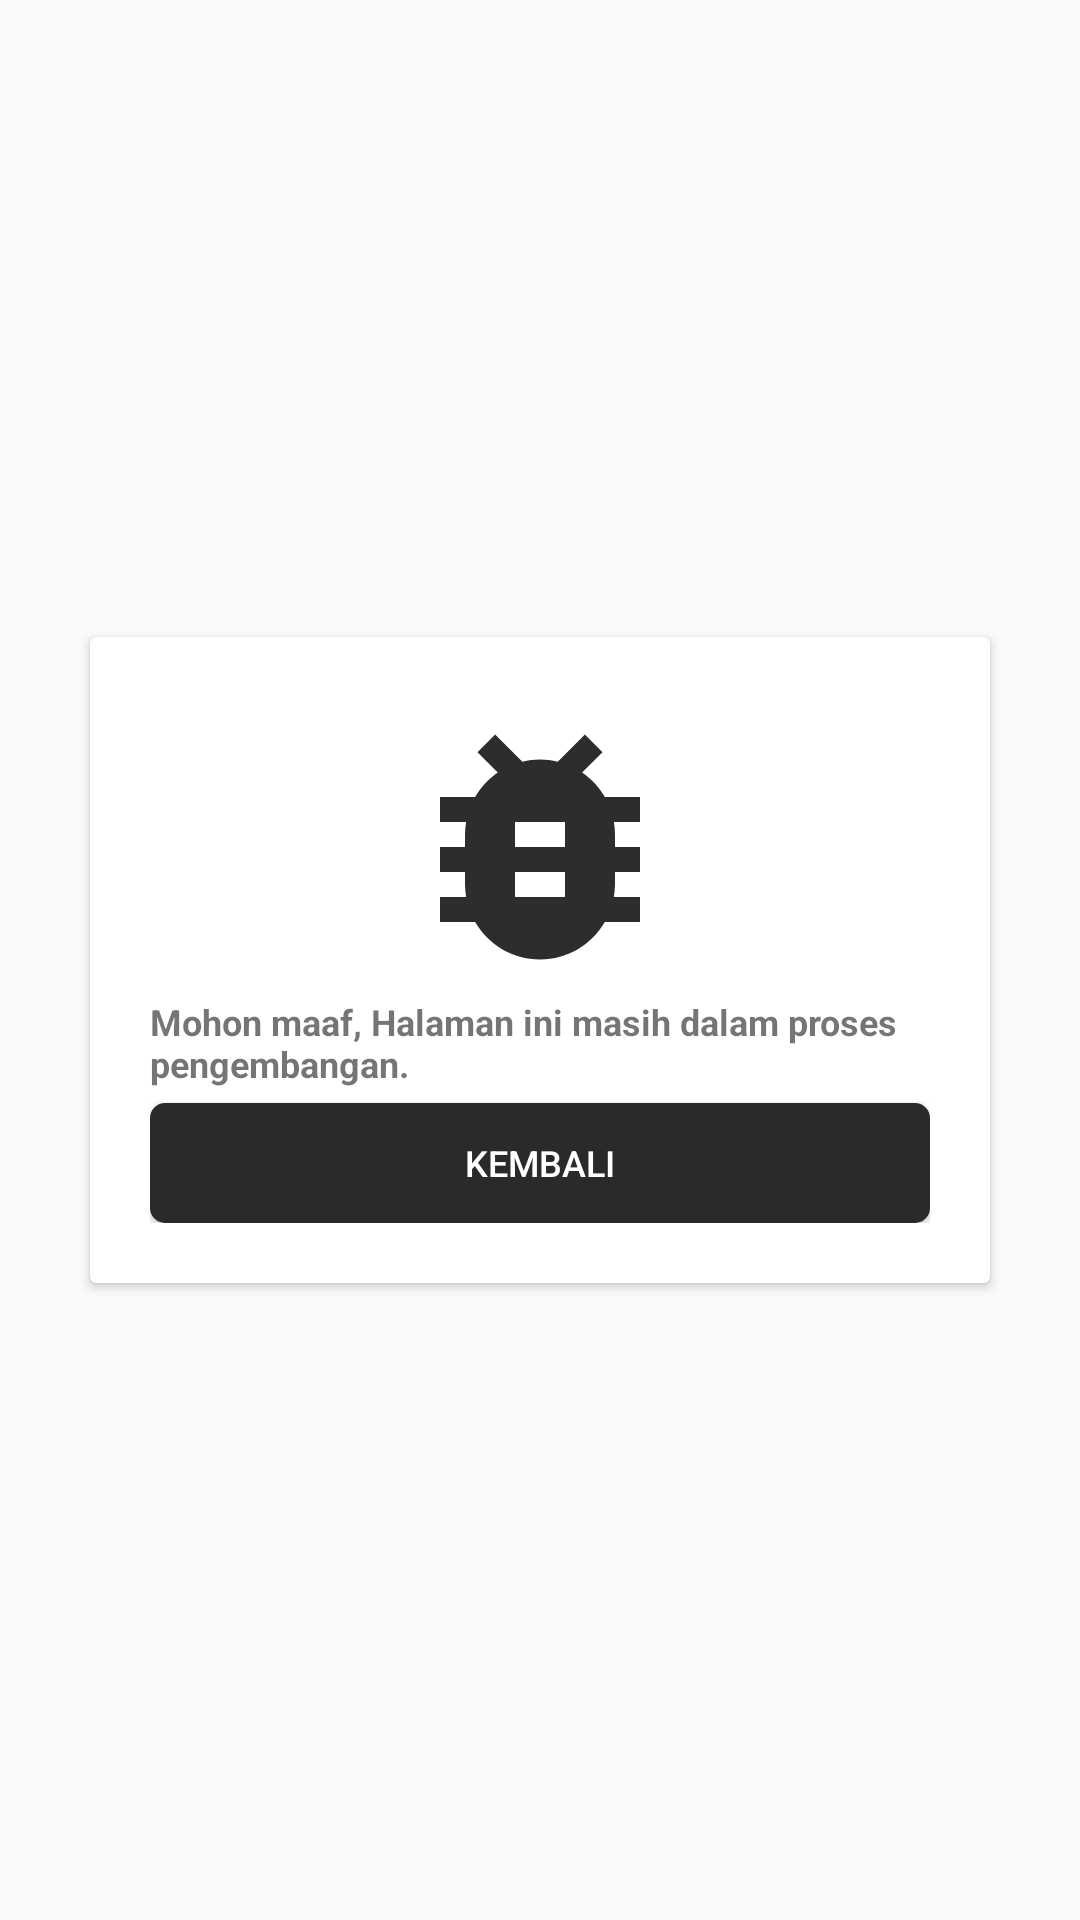

Icons on this 1080px×1920px Android screen, each with its box as rect(x1, y1, x2, y2):
bug report: rect(440, 734, 640, 960)
